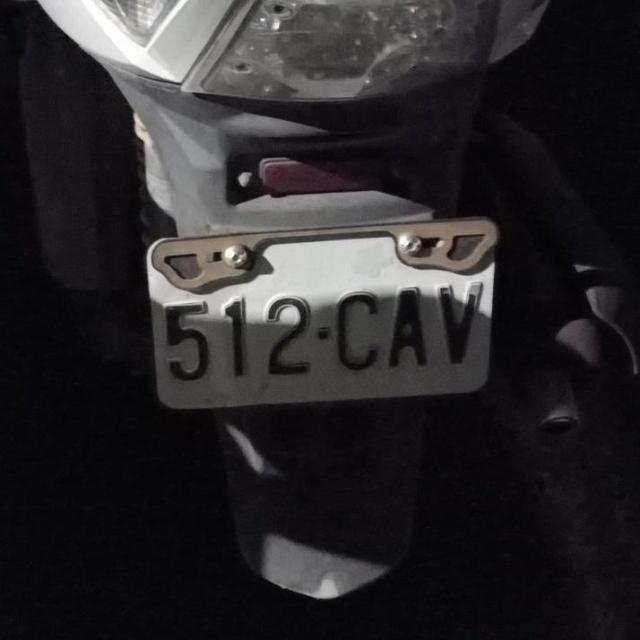W: (123, 202, 514, 426)
